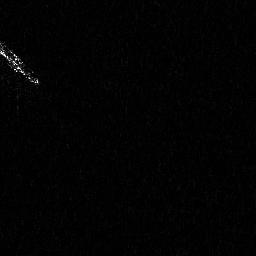ship: (1, 41, 41, 84)
